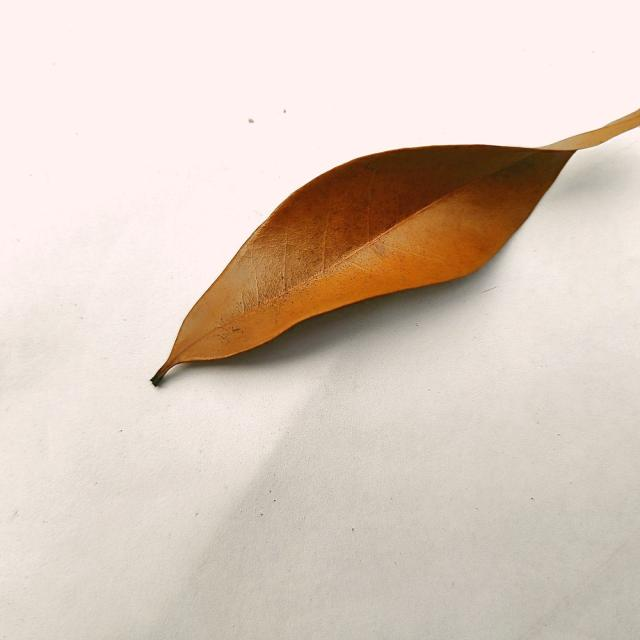Dry_Leaf-Lychee: (152, 109, 639, 387)
